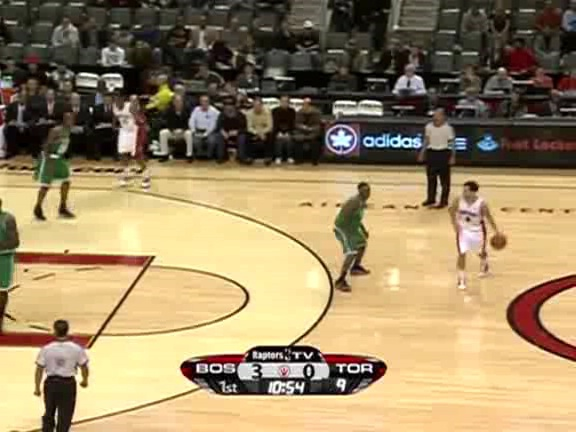person: (335, 186, 369, 267), (334, 186, 368, 267), (336, 186, 370, 267), (335, 185, 369, 266), (335, 187, 369, 268)
target_negative: (299, 184, 516, 315), (220, 185, 395, 335), (482, 79, 530, 301), (103, 107, 210, 202), (318, 208, 411, 276), (281, 356, 419, 398)
